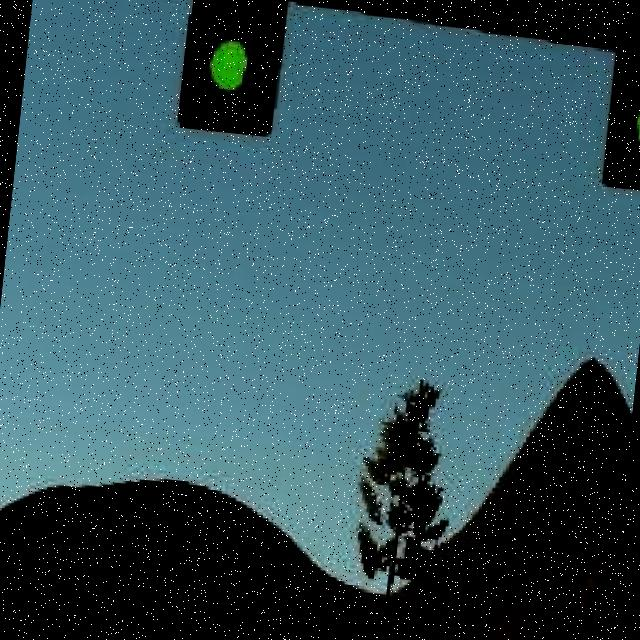Zielone swiatlo: (174, 0, 285, 139), (598, 32, 640, 189)
